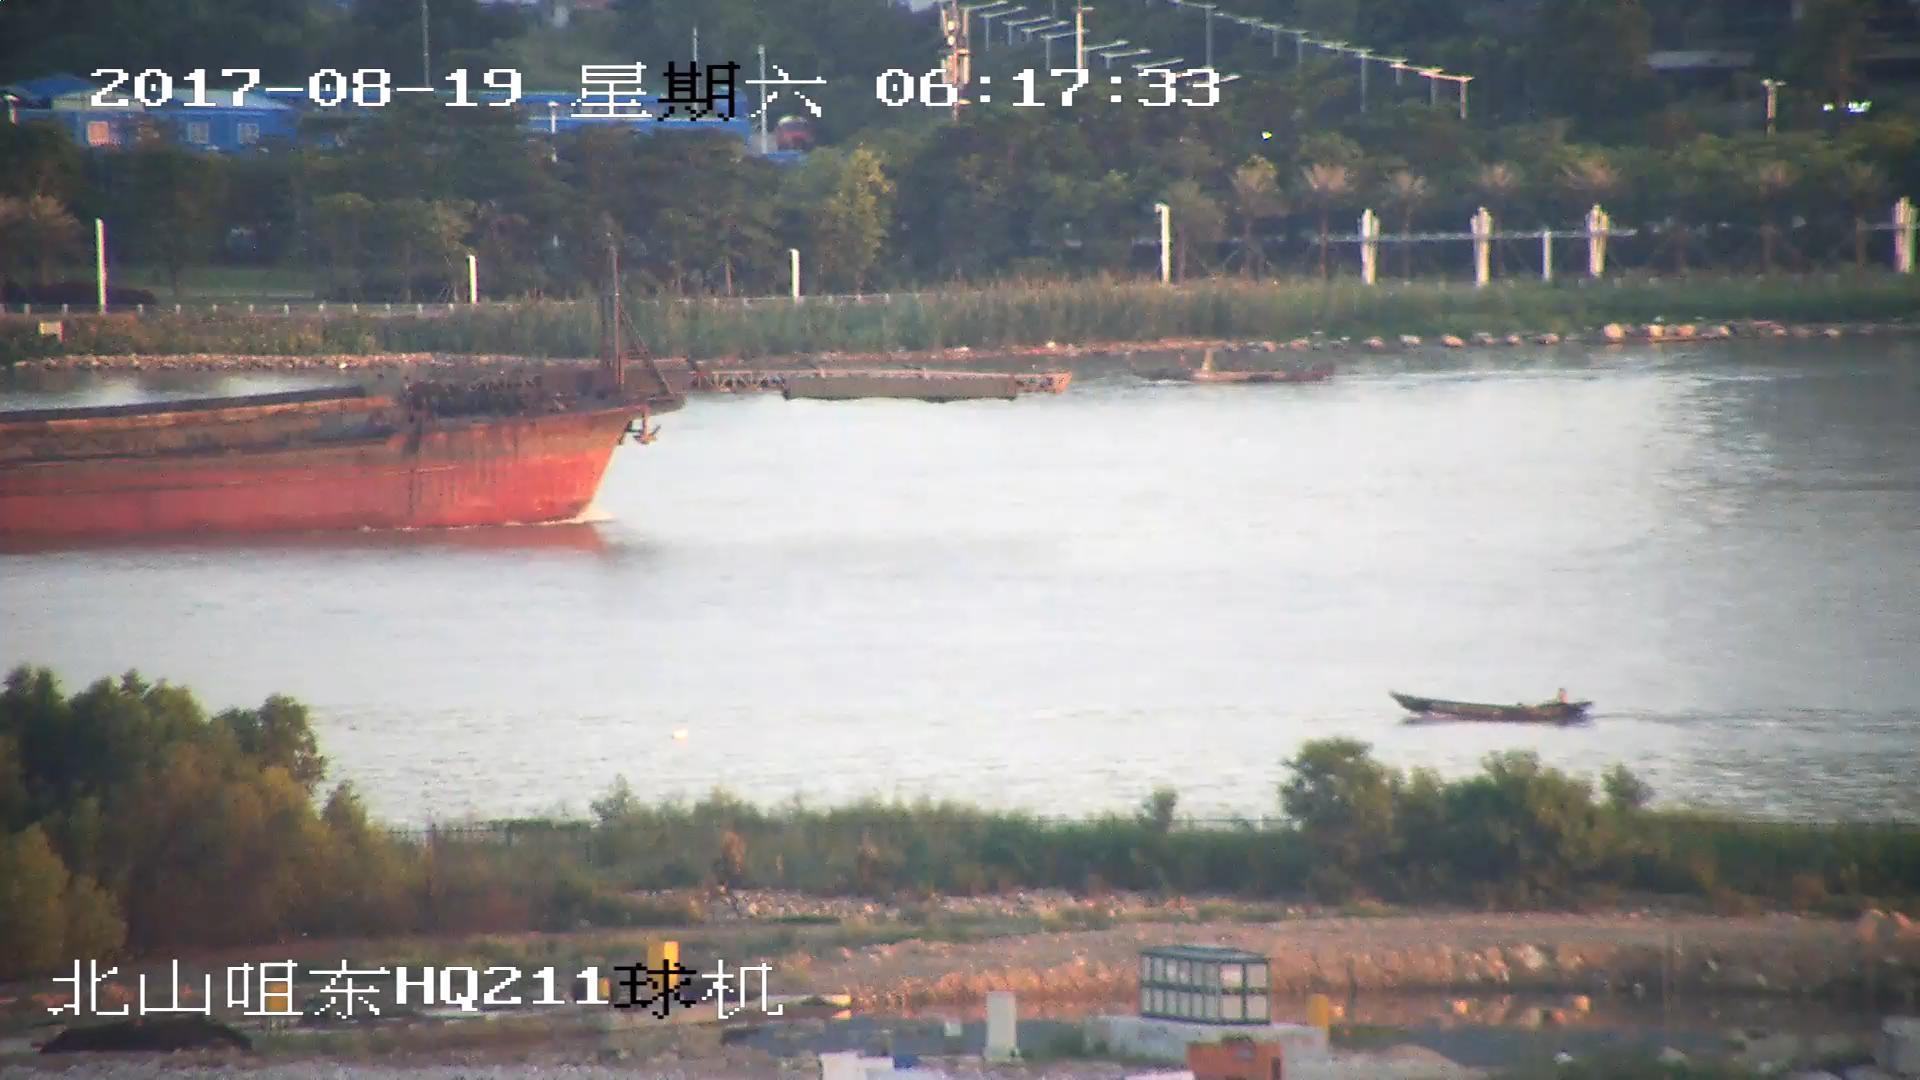bulk cargo carrier: (1, 248, 1071, 541)
fishing boat: (1389, 688, 1597, 730), (1137, 352, 1334, 390)
